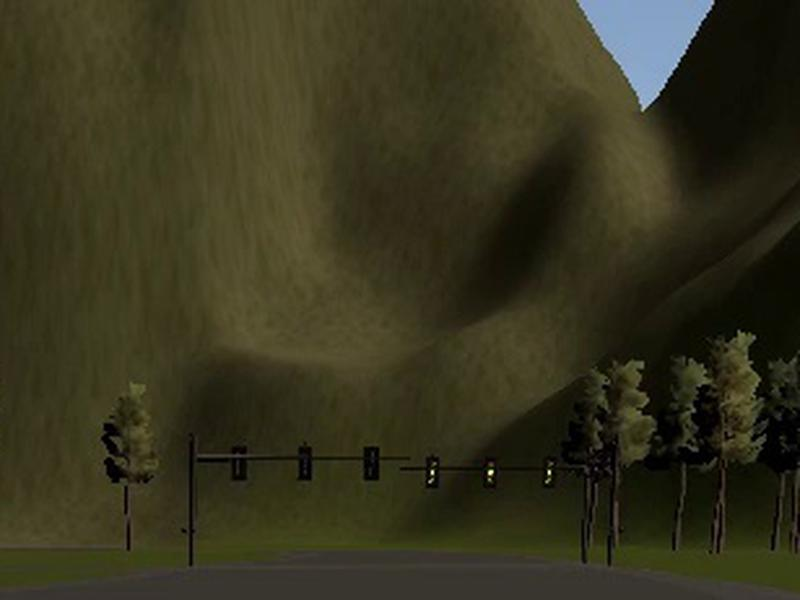Yellow: (425, 457, 442, 489), (482, 457, 499, 489), (542, 457, 557, 488)
